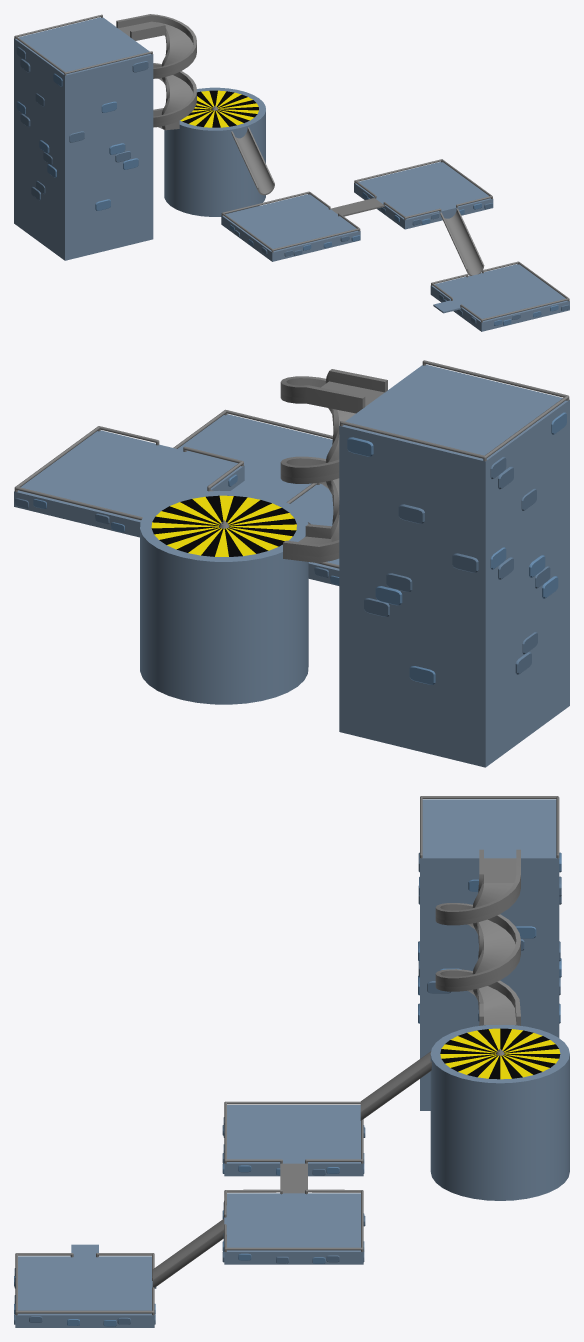
The model's file is Level1 New.fbx.
3 renders of one model, top to bottom at view 1: azimuth 30°, elevation 25°; view 2: azimuth 150°, elevation 25°; view 3: azimuth 270°, elevation 25°, orthographic. The views are drawn at different scales.
Visible parts, largest first — view 1: BaseKitchen, CylinderSpin, BaseCustomer2, BaseCustomer, BaseCustomer1, Plane.002, ObjSpin, Plane1, Plane1.001, Plane; view 2: BaseKitchen, CylinderSpin, BaseCustomer1, Plane.002, ObjSpin, BaseCustomer2, BaseCustomer; view 3: BaseKitchen, CylinderSpin, BaseCustomer2, BaseCustomer1, BaseCustomer, Plane.002, ObjSpin, Plane1, Plane1.001, Plane.
Boxes of the visible parts, box(x1,y1,x2,y2) form: BaseKitchen: box(14, 14, 153, 260); CylinderSpin: box(164, 87, 265, 216); BaseCustomer2: box(430, 261, 569, 331); BaseCustomer: box(221, 191, 360, 261); BaseCustomer1: box(354, 159, 493, 229); Plane.002: box(116, 14, 196, 130); ObjSpin: box(180, 90, 258, 127); Plane1: box(440, 208, 484, 275); Plane1.001: box(231, 127, 274, 195); Plane: box(331, 198, 384, 216); BaseKitchen: box(339, 360, 569, 767); CylinderSpin: box(140, 490, 308, 704); BaseCustomer1: box(14, 426, 244, 537); Plane.002: box(280, 369, 387, 563); ObjSpin: box(151, 495, 296, 556); BaseCustomer2: box(173, 409, 332, 502); BaseCustomer: box(286, 483, 339, 585); BaseKitchen: box(418, 796, 561, 1110); CylinderSpin: box(430, 1025, 569, 1200); BaseCustomer2: box(14, 1244, 156, 1327); BaseCustomer1: box(222, 1189, 365, 1264); BaseCustomer: box(222, 1101, 365, 1176); Plane.002: box(435, 849, 520, 1025); ObjSpin: box(440, 1028, 560, 1079); Plane1: box(152, 1218, 224, 1287); Plane1.001: box(360, 1051, 431, 1120); Plane: box(280, 1163, 307, 1193).
Size of the model in its own units: 4059 by 2371 by 3990.
